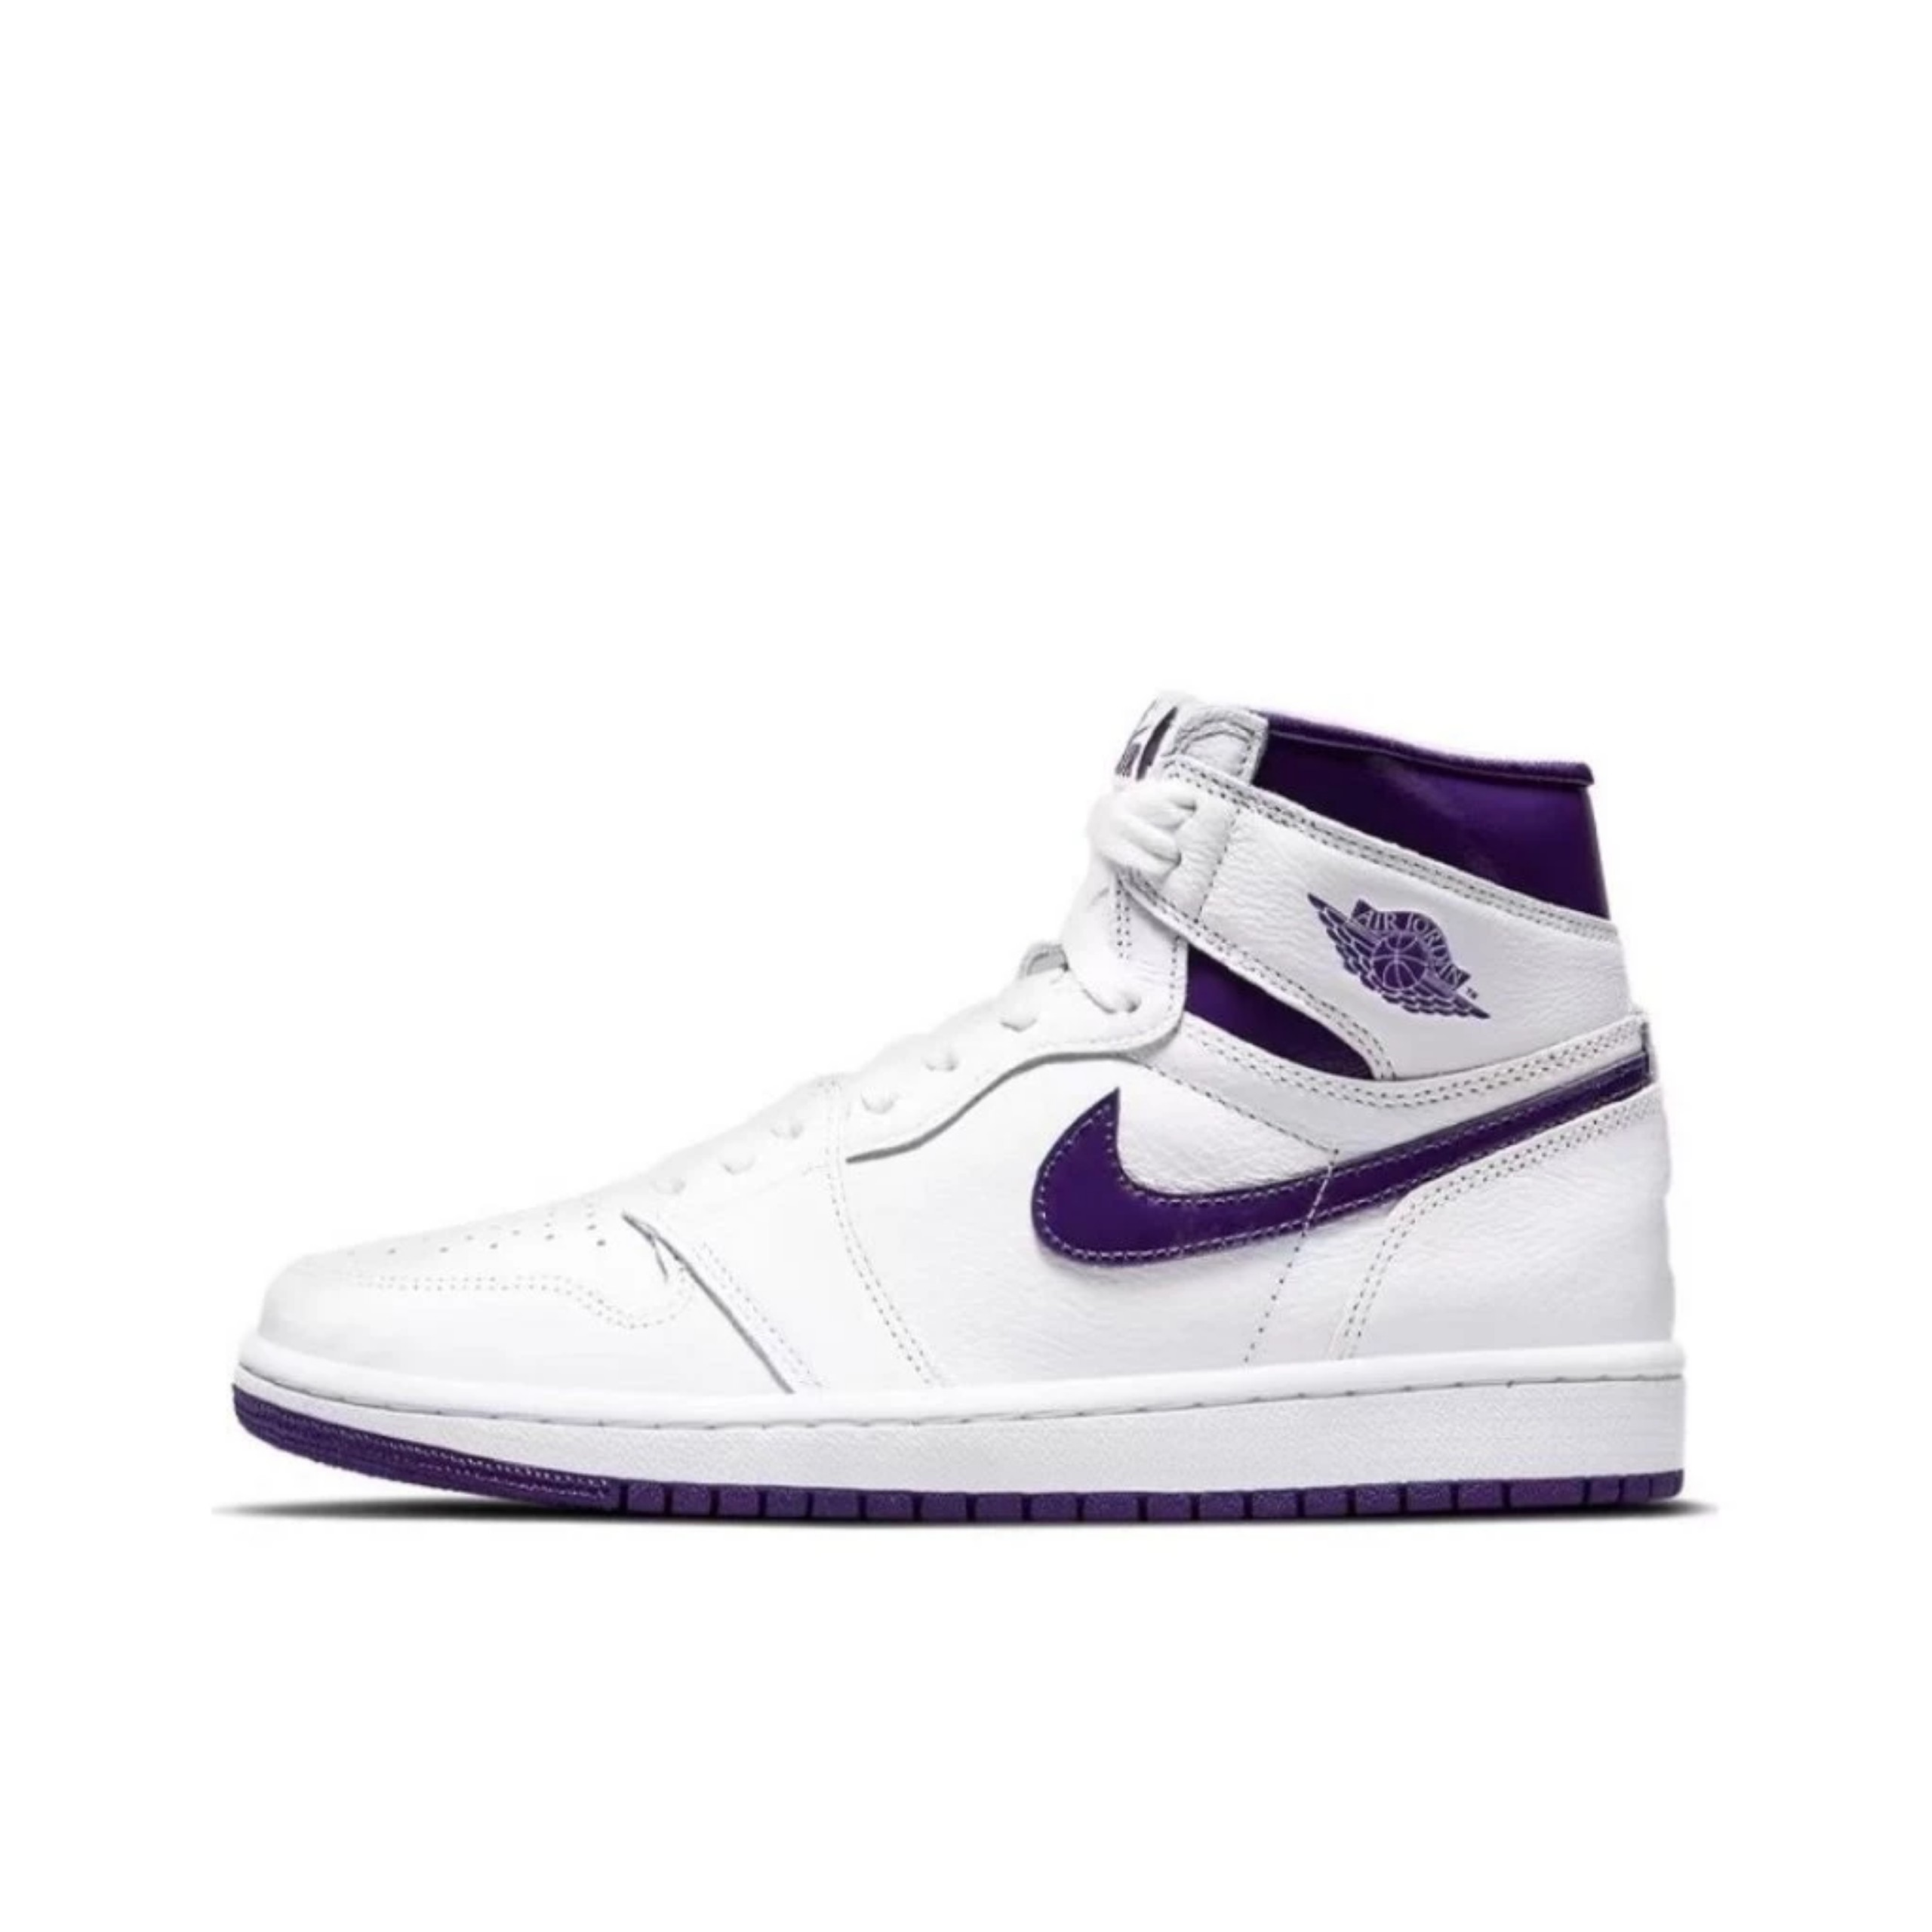sneakers: (241, 699, 1695, 1530)
